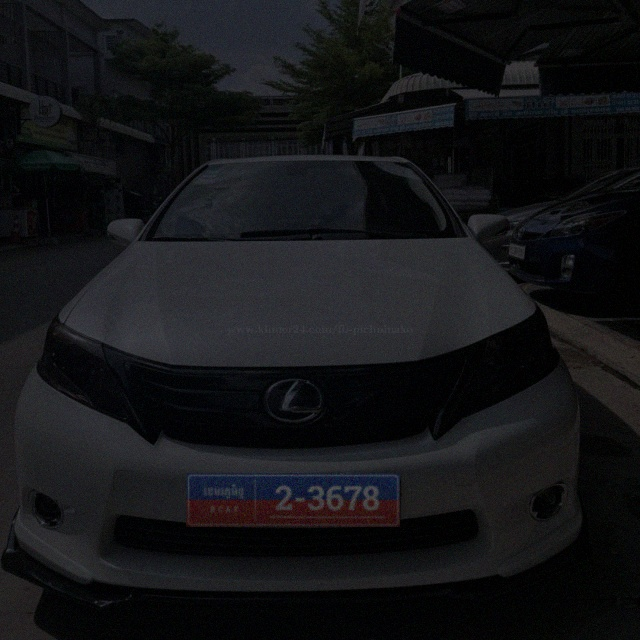Plate Number: (186, 473, 400, 528)
